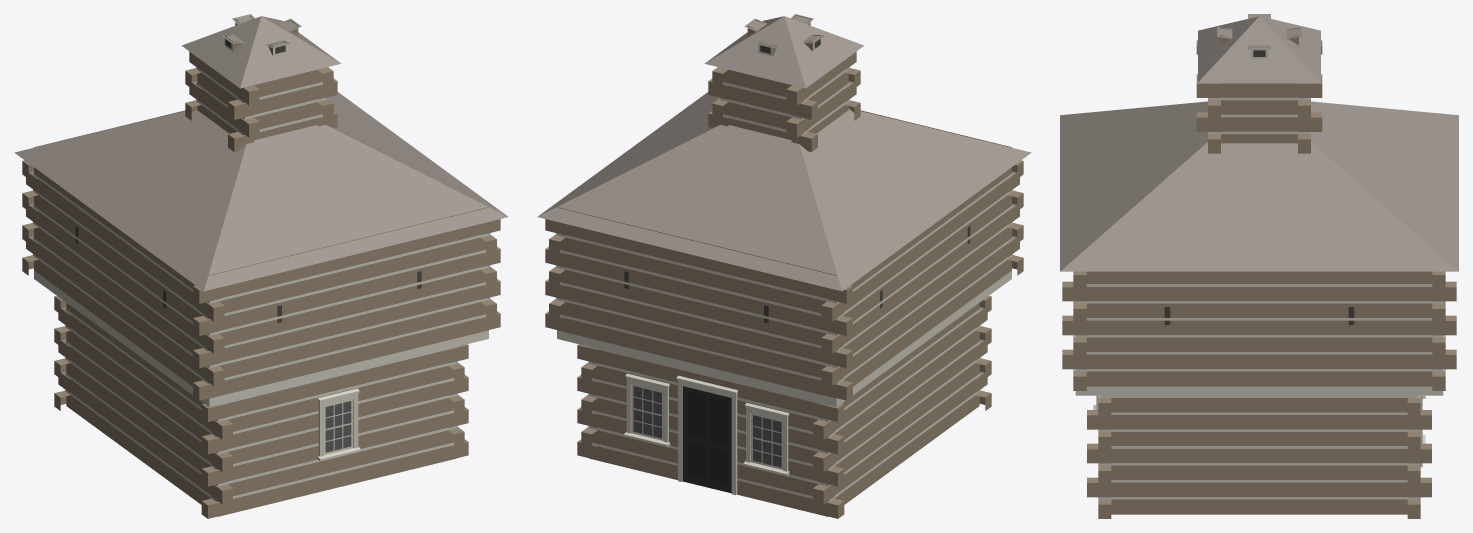
Rendered from first_fort_dearborn_blockhouse_nw__first_fort_1803.glb.
The picture shows the model from 3 angles, left to right: view 1: azimuth 30°, elevation 25°; view 2: azimuth 150°, elevation 25°; view 3: azimuth 270°, elevation 25°; orthographic projection. The views are drawn at different scales.
Visible parts, largest first — view 1: first_fort_dearborn_blockhouse_nw__first_fort_1803; view 2: first_fort_dearborn_blockhouse_nw__first_fort_1803; view 3: first_fort_dearborn_blockhouse_nw__first_fort_1803.
Part boxes in pixels (<box>): first_fort_dearborn_blockhouse_nw__first_fort_1803: <box>14,14,508,518</box>; first_fort_dearborn_blockhouse_nw__first_fort_1803: <box>537,14,1031,518</box>; first_fort_dearborn_blockhouse_nw__first_fort_1803: <box>1060,14,1458,518</box>.
Size of the model in its own units: 6.73 by 8.78 by 7.25.
